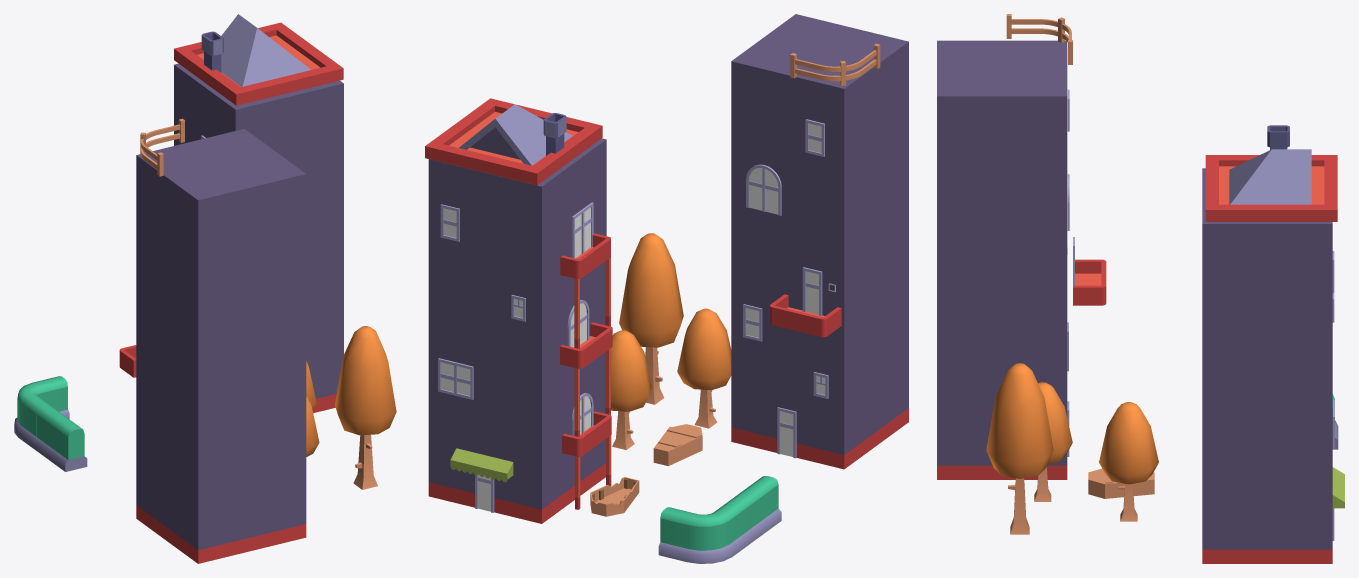
The model's file is wyrd_towerblock.glb.
3 views of the same model, side by side, from view 1: azimuth 30°, elevation 25°; view 2: azimuth 150°, elevation 25°; view 3: azimuth 270°, elevation 25° (orthographic). The views are drawn at different scales.
Visible parts, largest first — view 1: mergedBlocks(Clone); view 2: mergedBlocks(Clone); view 3: mergedBlocks(Clone).
Boxes of the visible parts, left/top/right/bottom form: mergedBlocks(Clone): left=14, top=14, right=396, bottom=563; mergedBlocks(Clone): left=425, top=14, right=908, bottom=563; mergedBlocks(Clone): left=937, top=14, right=1344, bottom=563.
Size of the model in its own units: 1.02 by 1.36 by 1.23.
